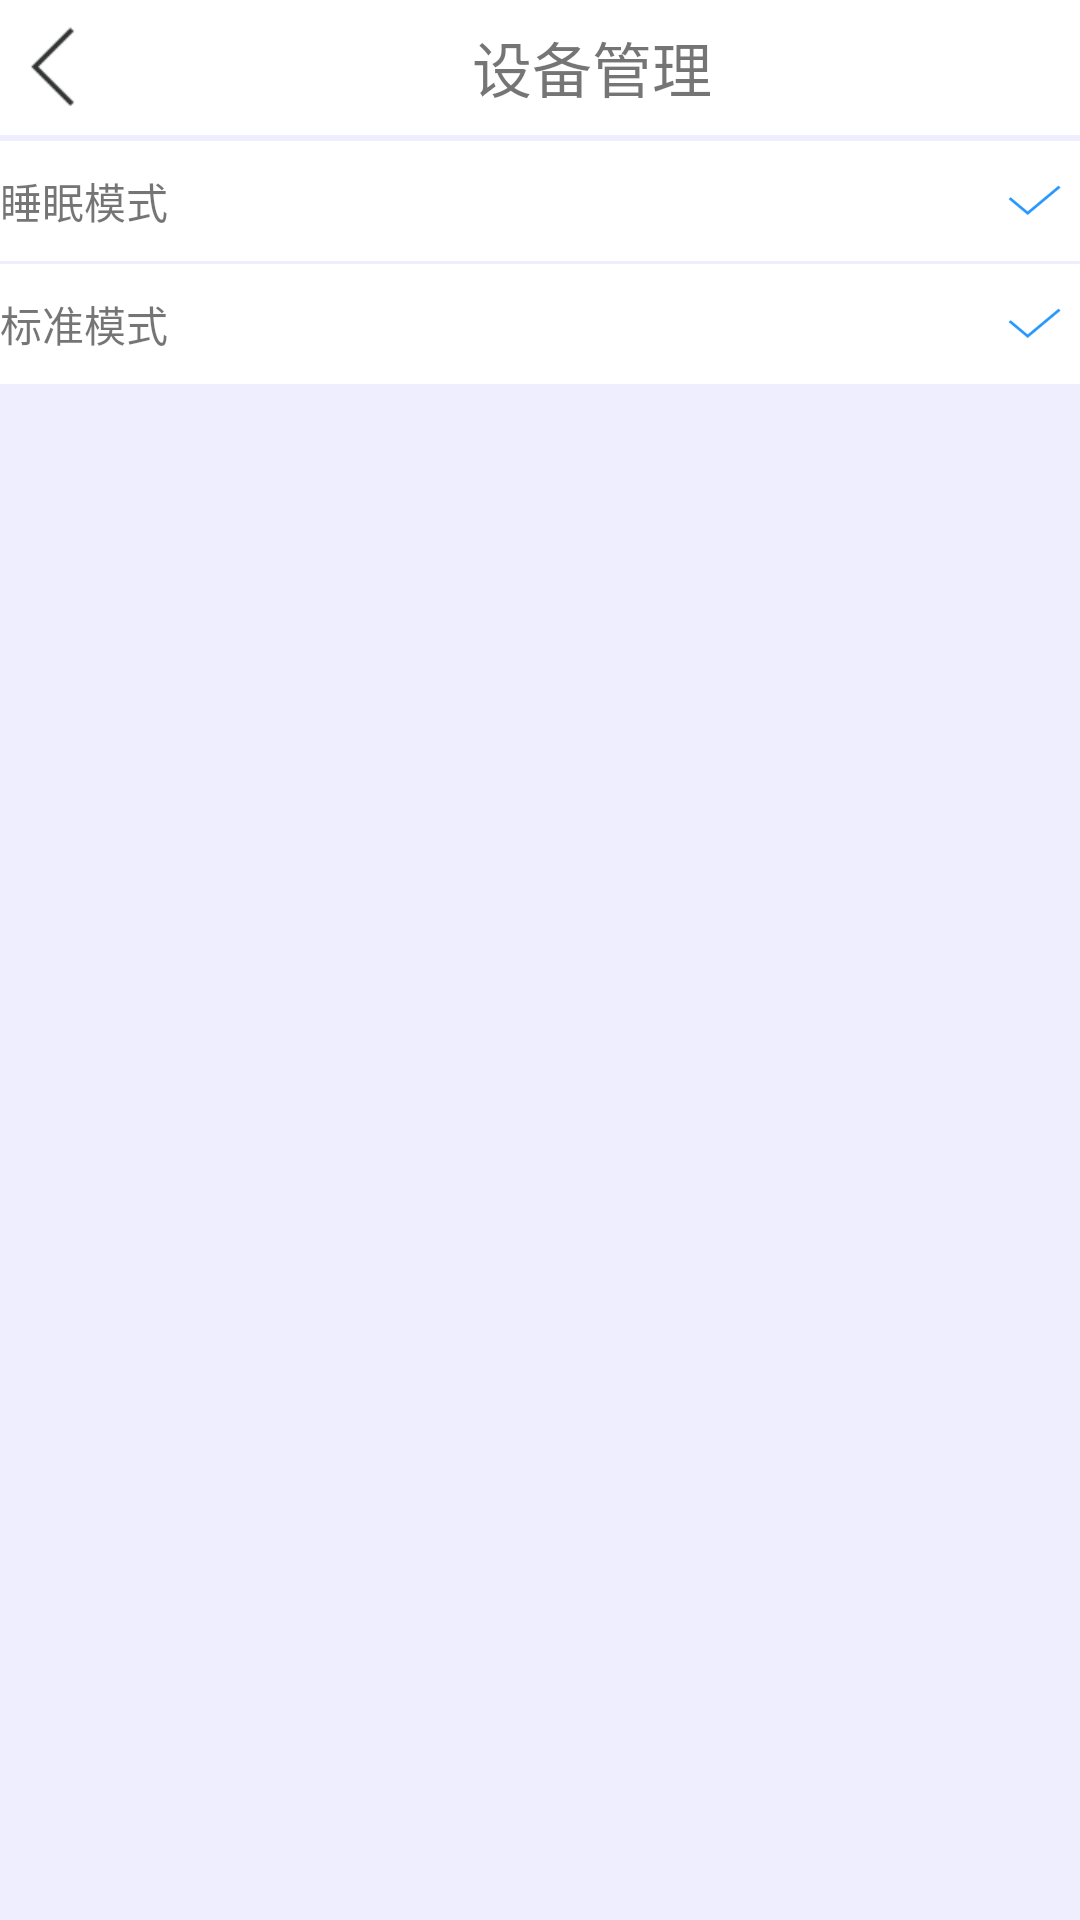

Named icons in this screenshot (1080*1920) and their bounding boxes, [x1=x1, y1=y1, x2=x2, y2=y2]:
back: [x1=31, y1=27, x2=74, y2=106]
